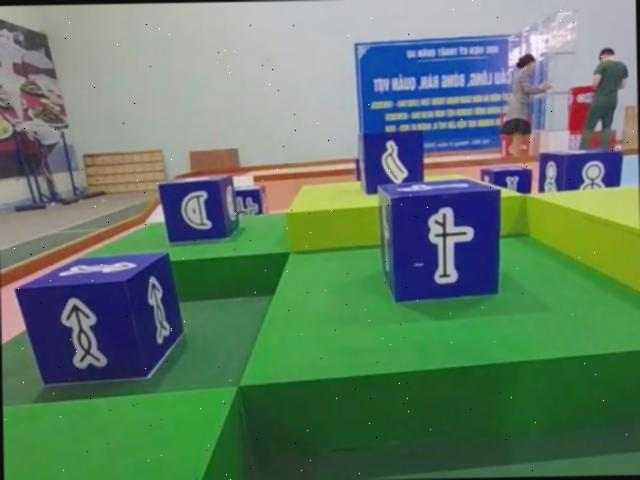R2 Real Blue: (16, 251, 183, 387), (376, 178, 502, 306), (160, 177, 241, 247), (356, 132, 425, 197), (536, 149, 621, 192), (479, 165, 531, 195), (232, 182, 268, 214)
